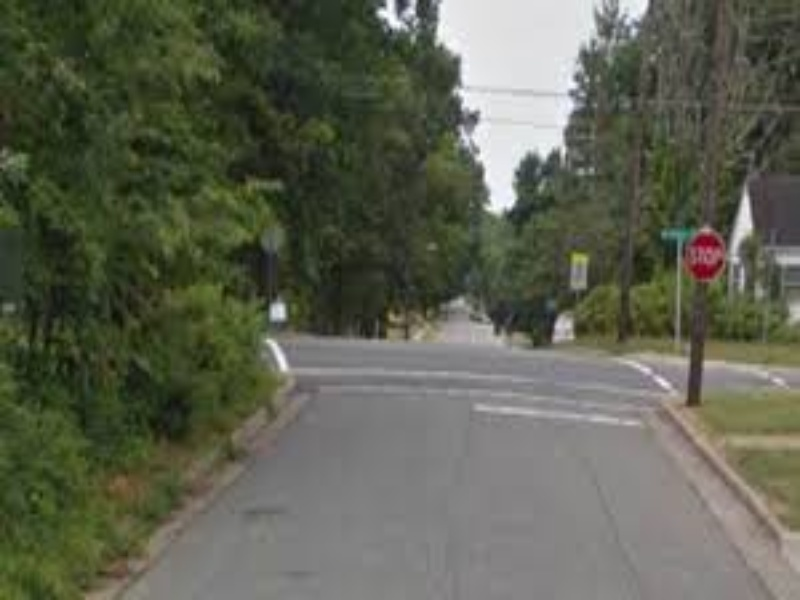stop sign: (682, 228, 728, 283)
